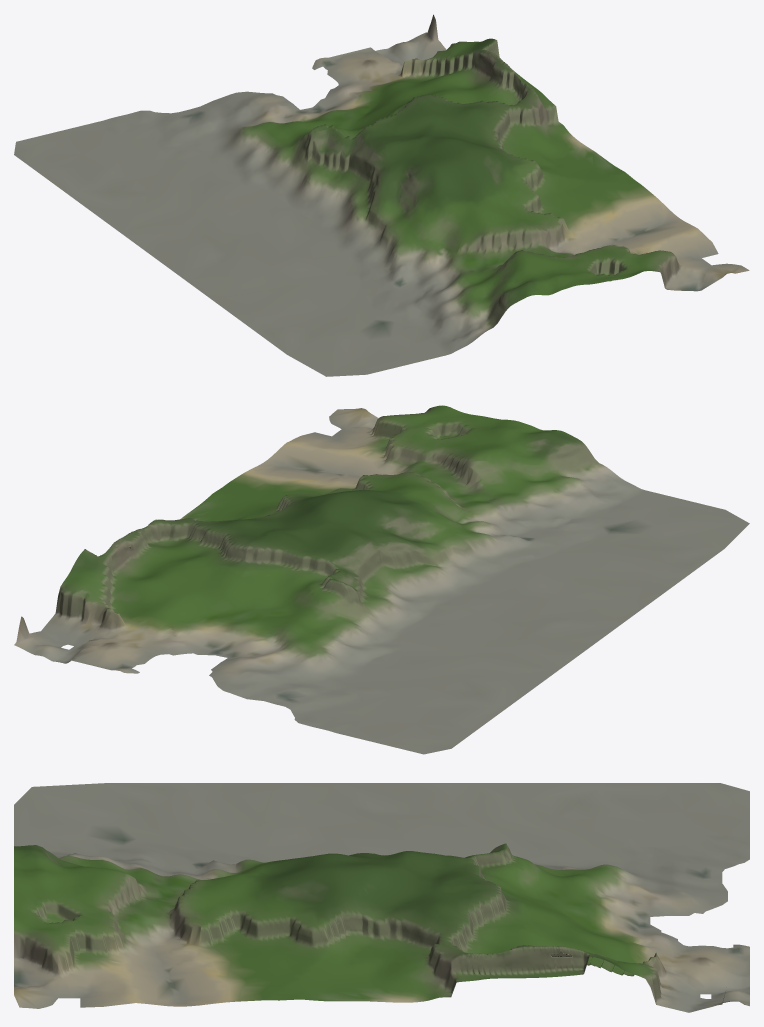
Rendered from coast_tile_x0z2_lod1.glb.
The picture shows the model from 3 angles, top to bottom: view 1: azimuth 30°, elevation 25°; view 2: azimuth 150°, elevation 25°; view 3: azimuth 270°, elevation 25°; orthographic projection. The views are drawn at different scales.
Parts seen in each view (by area): view 1: coast_tile_x0z2_lod1; view 2: coast_tile_x0z2_lod1; view 3: coast_tile_x0z2_lod1.
Part boxes in pixels (bbox=[...]): coast_tile_x0z2_lod1: bbox=[14, 14, 749, 376]; coast_tile_x0z2_lod1: bbox=[14, 405, 749, 754]; coast_tile_x0z2_lod1: bbox=[14, 783, 749, 1012].
Bounding box in the file's own units: 600 × 82.35 × 798.
